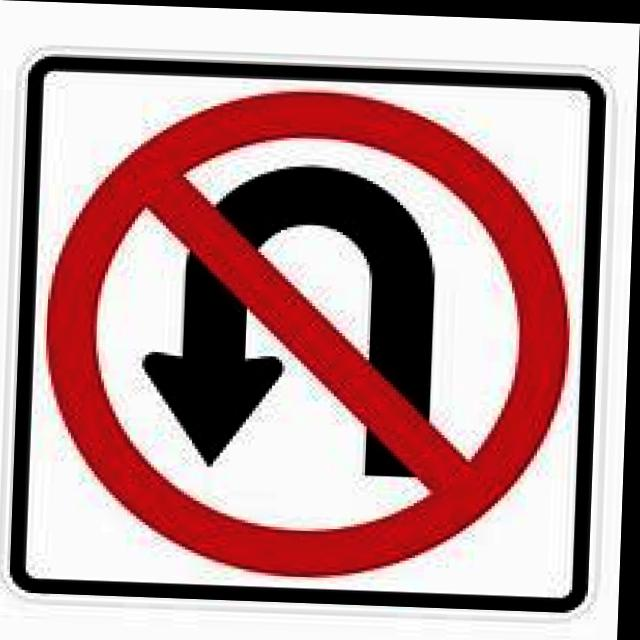U_TURN_PROHIBITED: (32, 79, 574, 588)
